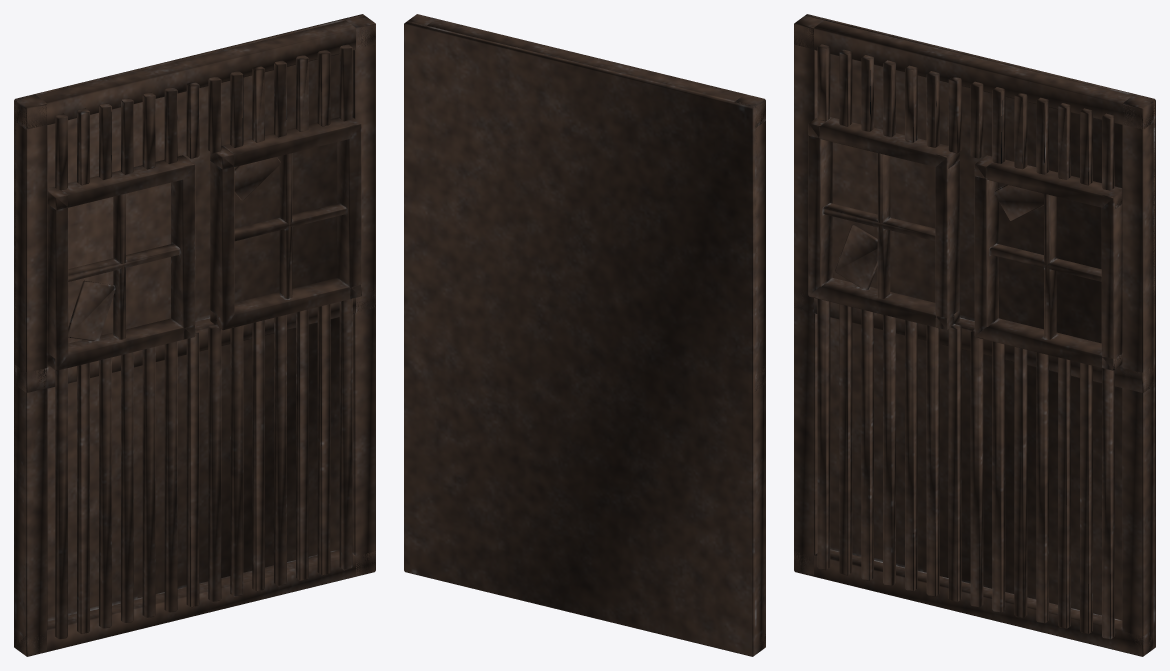
The model's file is Galpon_ParedVentanas.fbx.
3 renders of one model, left to right at view 1: azimuth 30°, elevation 25°; view 2: azimuth 150°, elevation 25°; view 3: azimuth 330°, elevation 25°, orthographic.
Parts seen in each view (by area): view 1: Galpon_ParedVentanas; view 2: Galpon_ParedVentanas; view 3: Galpon_ParedVentanas.
Boxes of the visible parts, x1,y1,x2,y2 form: Galpon_ParedVentanas: [14, 14, 375, 656]; Galpon_ParedVentanas: [404, 14, 765, 656]; Galpon_ParedVentanas: [794, 14, 1155, 656].
Size of the model in its own units: 8 by 12 by 0.825.
